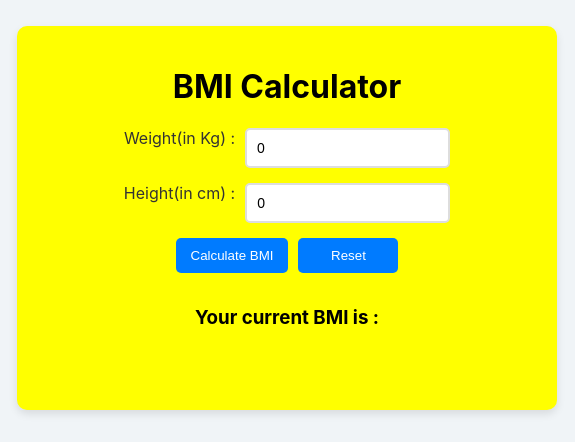
Scenario: BMI-Calculator › displays underweight message for low BMI
Replace the text in the field with class "weight-input" with "50": (348, 148) 245,128 -> 450,168
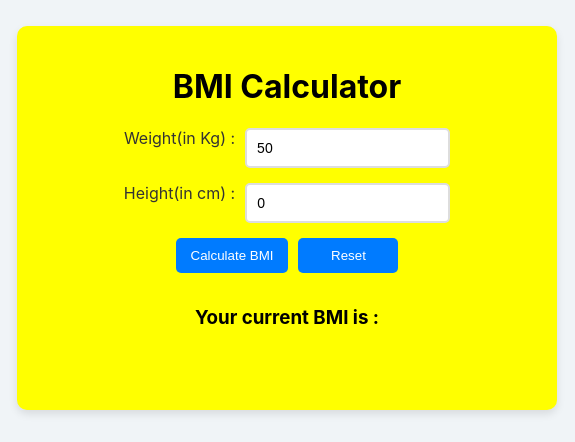
Replace the text in the field with class "height-input" with "180": (348, 203) 245,183 -> 450,223
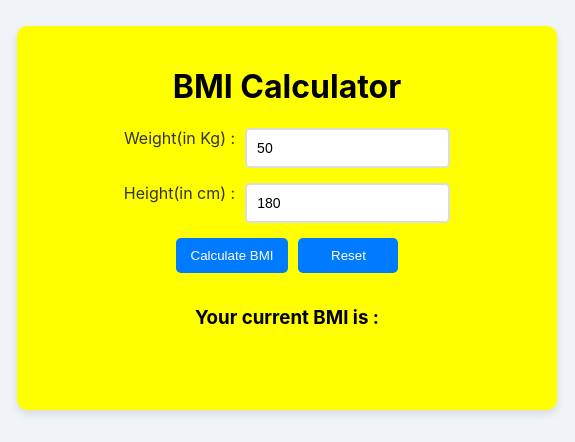
Click the button "Calculate BMI": (232, 255) 176,238 -> 288,273
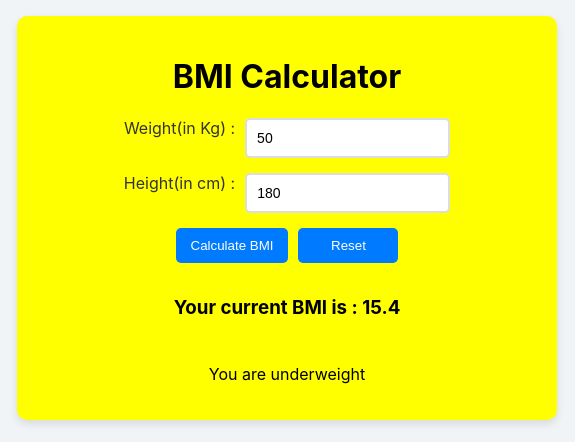
Now the text "You are underweight" is shown, box 209,364 -> 365,384
